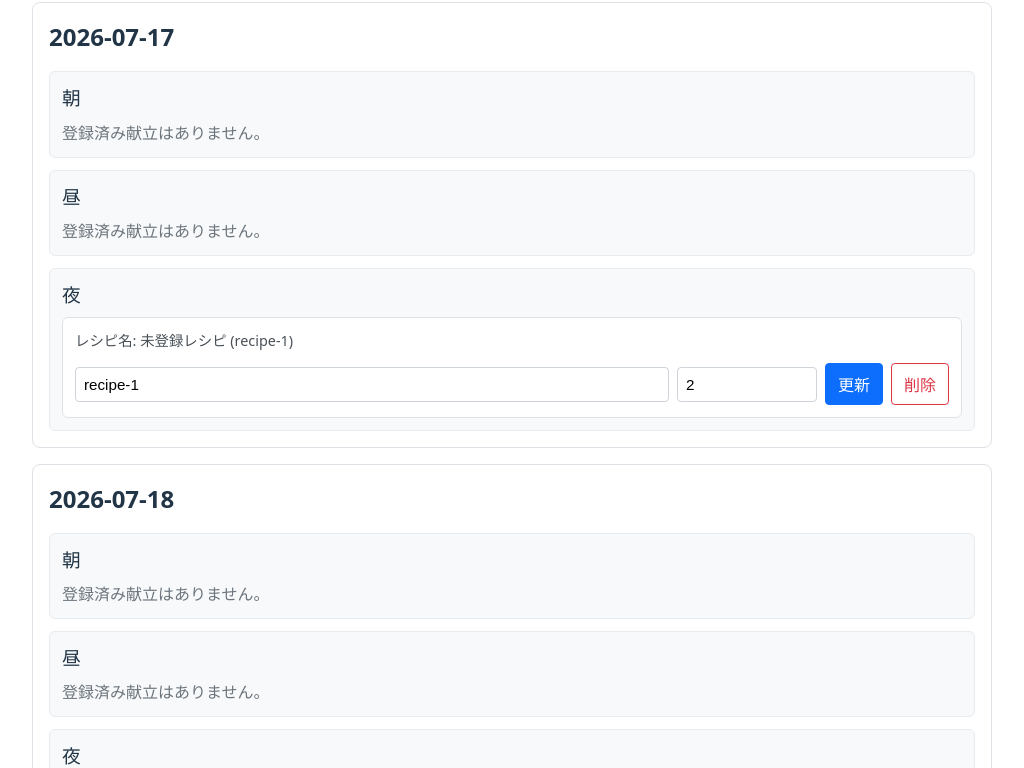
Scenario: MenusPage › 削除失敗時にエラーと対象献立を表示し続ける
This screenshot has width=1024, height=768.
(page scrolled)
Step 1. Click the button "削除" → [920, 384], box [891,363,949,405]
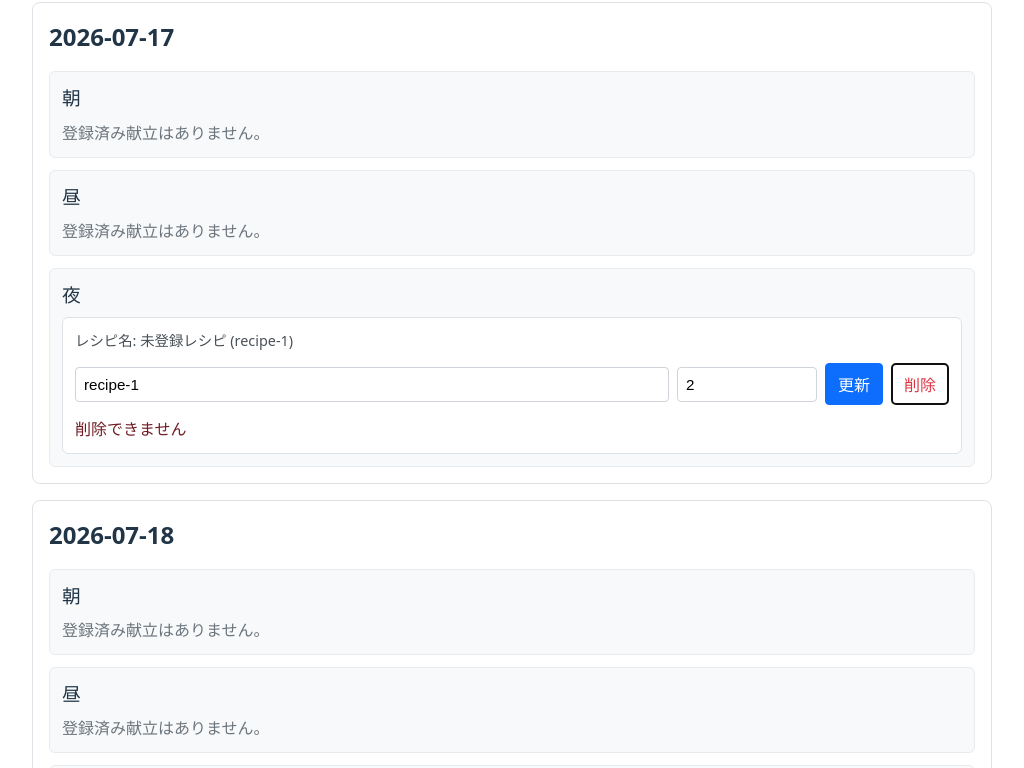
Expected: the text "レシピ名: 未登録レシピ (recipe-1)" is shown, [75,331,293,350]
Expected: the text "削除できません" is shown, [75,418,186,440]
